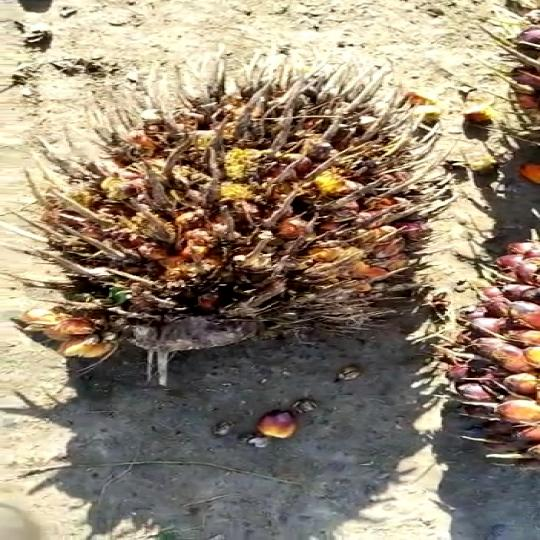terlalu masak: (0, 41, 483, 392)
